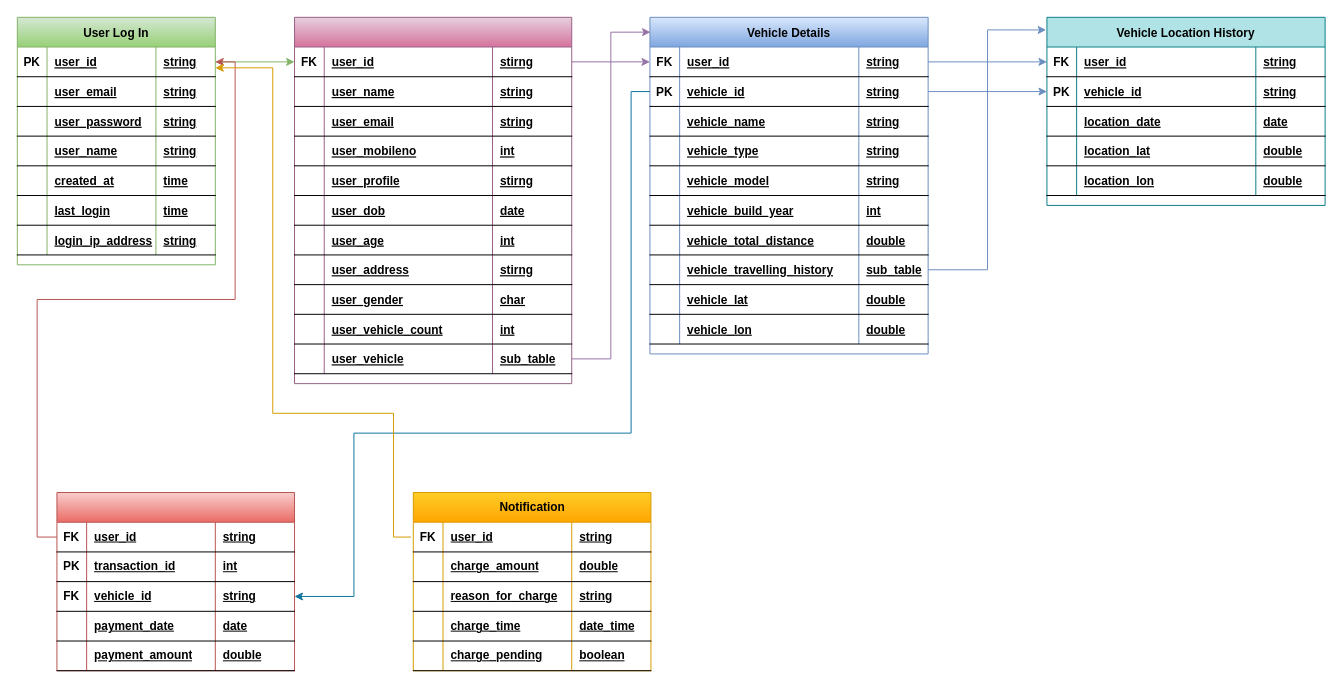
This 1342x688 diagram has some shape labels left out. The box of each missing label's shape, as (x1, y1, x2, y2) in pixels:
Transaction Table: (56, 492, 295, 671)
User Information: (294, 16, 572, 384)
